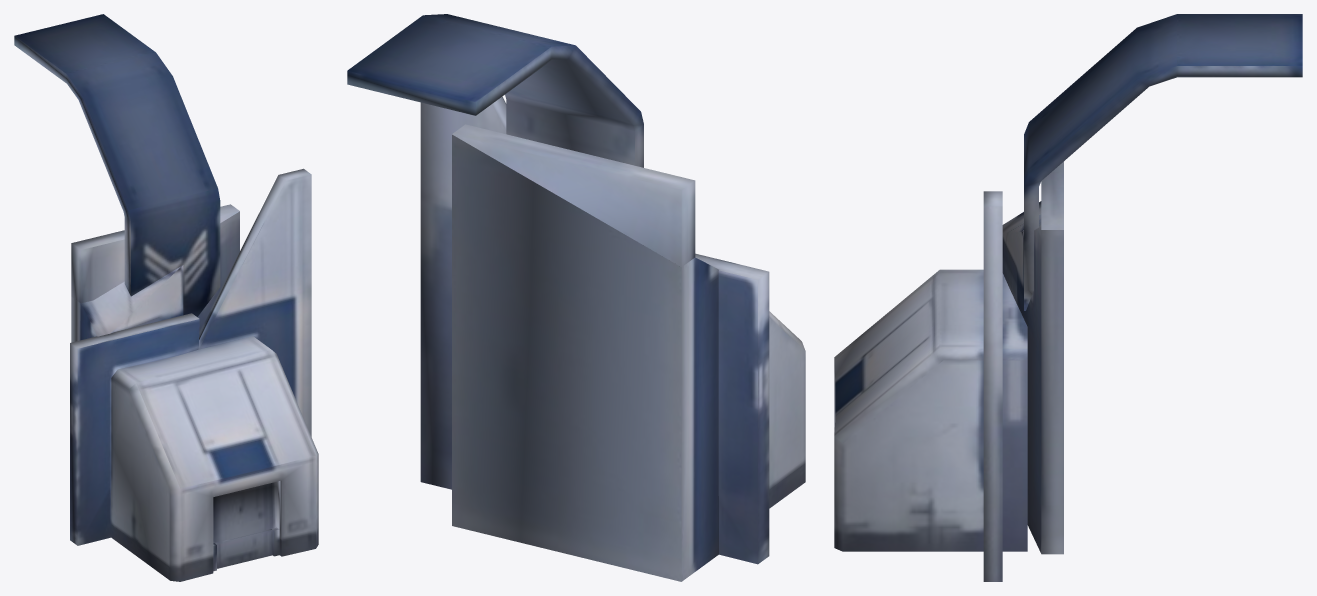
File: 整備庫_18_物料艙.glb
3 views of the same model, side by side, from view 1: azimuth 30°, elevation 25°; view 2: azimuth 150°, elevation 25°; view 3: azimuth 270°, elevation 25° (orthographic). The views are drawn at different scales.
Parts seen in each view (by area): view 1: 18_物料艙; view 2: 18_物料艙; view 3: 18_物料艙.
Part boxes in pixels (<box>): 18_物料艙: <box>14,14,318,581</box>; 18_物料艙: <box>347,14,805,581</box>; 18_物料艙: <box>834,14,1302,581</box>.
Size of the model in its own units: 0.1254 by 0.2026 by 0.1821.
1 material, 1 textured.
